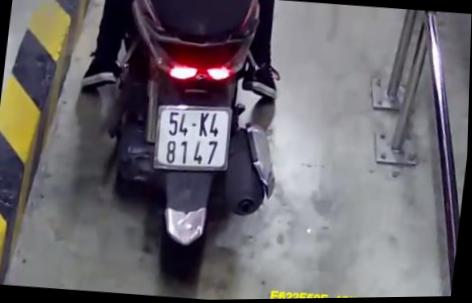LP: (151, 99, 237, 177)
